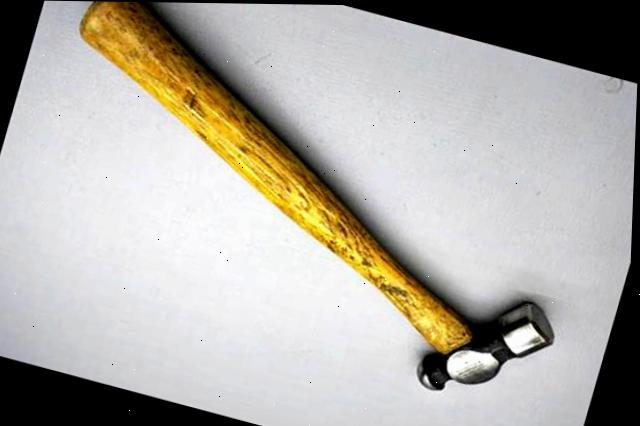hammer: (0, 0, 629, 420)
